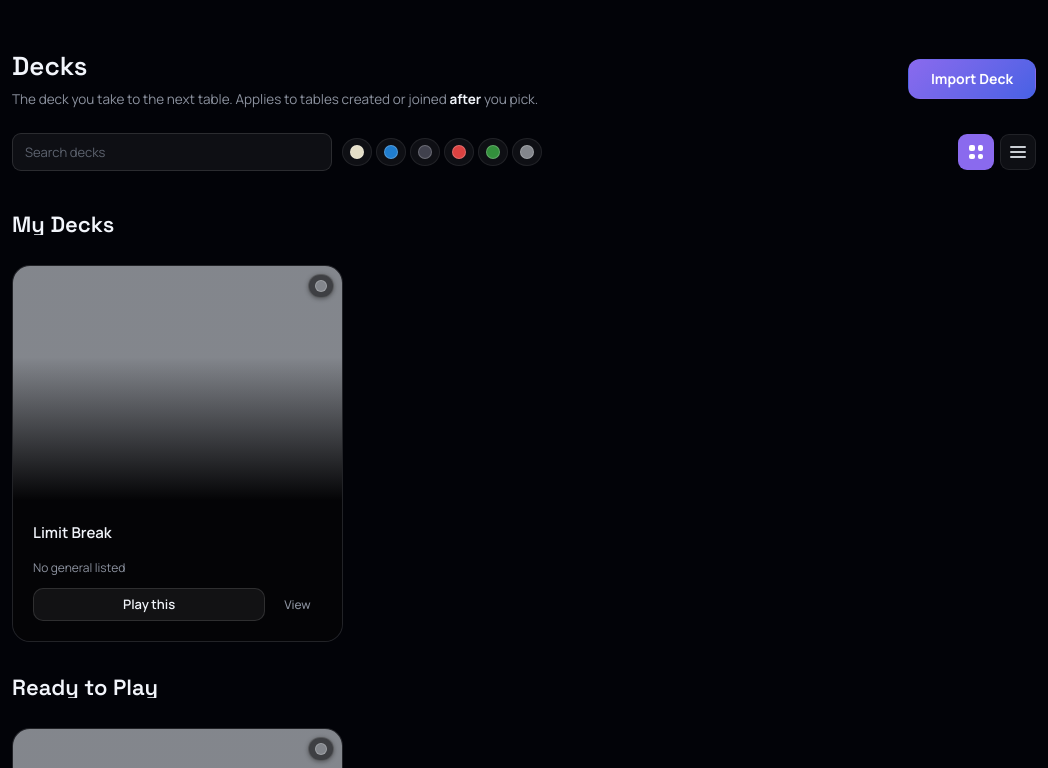
Test case: DecksComponent › searches across both your decks and the ready-made shelf
Type "final fantasy" into the field named "search decks". click: (172, 152)
box: [12,133,332,171]
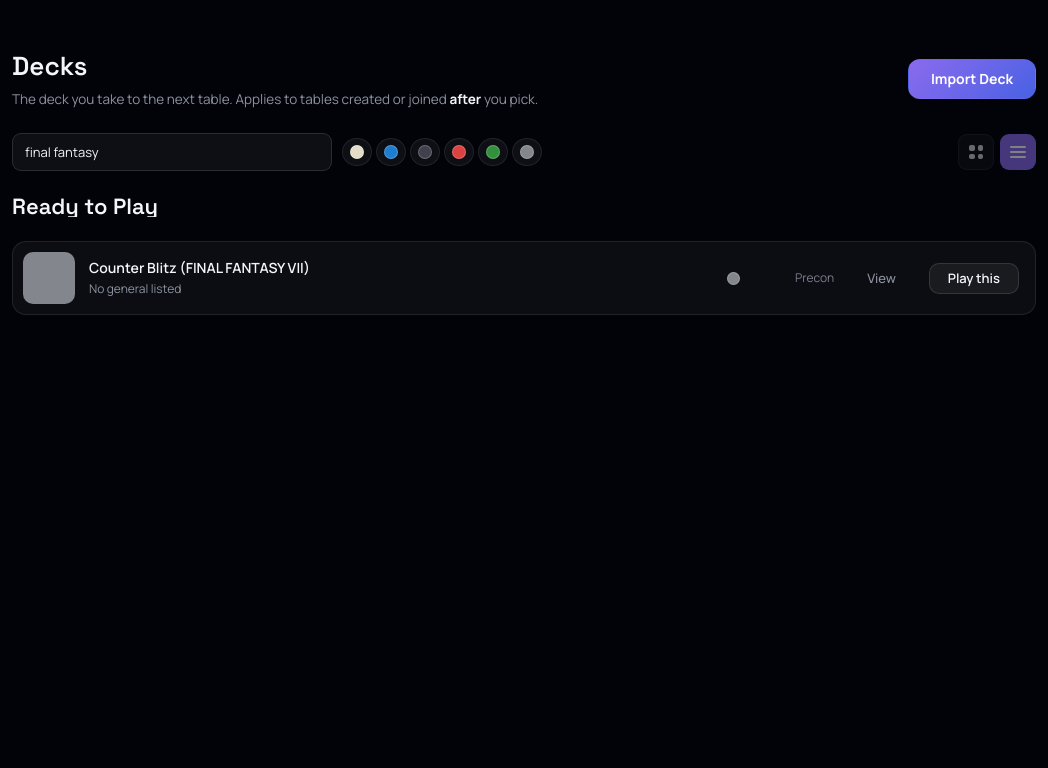
Expected: the text "Counter Blitz (FINAL FANTASY VII)" is shown, [89,258,310,277]
Expected: the text "Limit Break" is gone
